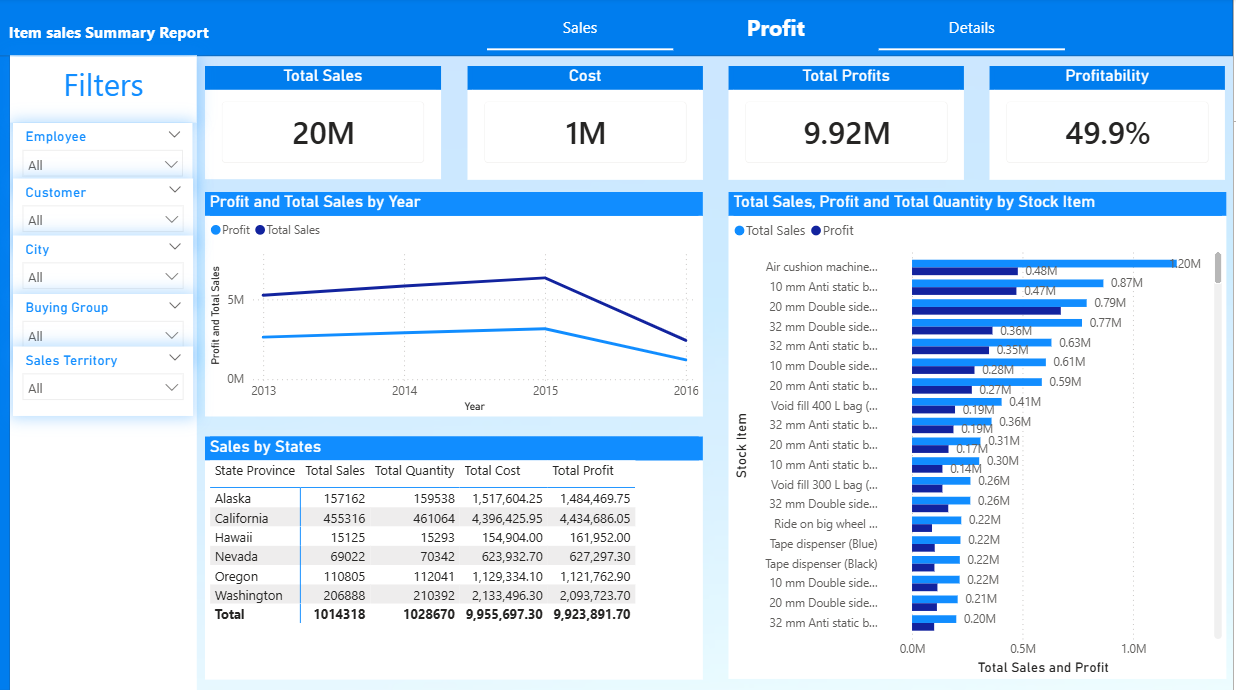

This screenshot's page, from the dashboard's own definition file:
{"tool":"powerbi","page":{"name":"Profit","canvas":[1280,720],"ordinal":1},"visuals":[{"type":"shape","box":[0,0,1280,61.3],"z":0},{"type":"shape","box":[0,61.3,12.6,658.5],"z":1000},{"type":"shape","box":[12.6,61.3,193.6,658.5],"z":2000},{"type":"shape","box":[12.6,61.3,193.6,658.5],"z":3000},{"type":"textbox","box":[6.8,20.4,217.9,40.9],"z":4000},{"type":"cardVisual","title":"Total Sales","fields":{"Data":["Sum(FactSale.Total Excluding Tax)"]},"box":[215.2,71.1,244.3,117.6],"z":5000},{"type":"cardVisual","title":"Cost","fields":{"Data":["Sum(FactSale.Quantity)"]},"box":[486.3,71.1,244.1,117.7],"z":6000},{"type":"cardVisual","title":"Total Profits","fields":{"Data":["Sum(FactSale.Profit)"]},"box":[757.2,71.1,244.1,117.7],"z":7000},{"type":"cardVisual","title":"Profitability","fields":{"Data":["FactSale.Profitablity"]},"box":[1028.1,71.1,244.1,117.7],"z":8000},{"type":"textbox","box":[12.6,62.2,193.6,68.1],"z":9000},{"type":"lineChart","fields":{"Category":["DimDate.Date.Variation.Date Hierarchy.Year","DimDate.Date.Variation.Date Hierarchy.Quarter","DimDate.Date.Variation.Date Hierarchy.Month","DimDate.Date.Variation.Date Hierarchy.Day"],"Y":["Sum(FactSale.Profit)","Sum(FactSale.Total Excluding Tax)"]},"box":[214.5,202.4,516,232.7],"z":10000},{"type":"clusteredBarChart","fields":{"Category":["DimStockItem.Stock Item"],"Y":["Sum(FactSale.Total Excluding Tax)","Sum(FactSale.Profit)"]},"box":[756.9,202.4,516,504.9],"z":11000},{"type":"pivotTable","title":"Sales by States","fields":{"Values":["Sum(FactSale.Total Dry Items)","Sum(FactSale.Quantity)","Sum(FactSale.Cost)","Sum(FactSale.Profit)"],"Rows":["DimCity.State Province"]},"box":[214.5,455.3,516,252],"z":12000},{"type":"slicer","fields":{"Values":["DimEmployee.Employee"]},"box":[15.6,130.1,186.3,71.8],"z":13000},{"type":"slicer","fields":{"Values":["DimCustomer.Customer"]},"box":[15.6,188.7,186.7,72],"z":14000},{"type":"slicer","fields":{"Values":["DimCity.City"]},"box":[15.6,247.1,186.7,72],"z":15000},{"type":"slicer","fields":{"Values":["DimCustomer.Buying Group"]},"box":[15.6,307.4,186.7,72],"z":16000},{"type":"slicer","fields":{"Values":["DimCity.Sales Territory"]},"box":[15.6,362.8,186.7,72],"z":17000},{"type":"pageNavigator","box":[506.7,6.8,600.1,49.6],"z":17001}]}

Visuals, with their boxes in screenshot pixels (x1, y1, x2, y2), scaled from the page's 1280x720 canvas onto the 1236x690 screenshot:
shape: {"x1": 0, "y1": 0, "x2": 1235, "y2": 59}
shape: {"x1": 0, "y1": 59, "x2": 12, "y2": 689}
shape: {"x1": 12, "y1": 59, "x2": 199, "y2": 689}
shape: {"x1": 12, "y1": 59, "x2": 199, "y2": 689}
textbox: {"x1": 7, "y1": 20, "x2": 217, "y2": 59}
"Total Sales" cardVisual: {"x1": 208, "y1": 68, "x2": 444, "y2": 181}
"Cost" cardVisual: {"x1": 470, "y1": 68, "x2": 705, "y2": 181}
"Total Profits" cardVisual: {"x1": 731, "y1": 68, "x2": 967, "y2": 181}
"Profitability" cardVisual: {"x1": 993, "y1": 68, "x2": 1228, "y2": 181}
textbox: {"x1": 12, "y1": 60, "x2": 199, "y2": 125}
lineChart - DimDate.Date.Variation.Date Hierarchy.Year x DimDate.Date.Variation.Date Hierarchy.Quarter: {"x1": 207, "y1": 194, "x2": 705, "y2": 417}
clusteredBarChart - DimStockItem.Stock Item x Sum(FactSale.Total Excluding Tax): {"x1": 731, "y1": 194, "x2": 1229, "y2": 678}
"Sales by States" pivotTable: {"x1": 207, "y1": 436, "x2": 705, "y2": 678}
slicer - DimEmployee.Employee: {"x1": 15, "y1": 125, "x2": 195, "y2": 193}
slicer - DimCustomer.Customer: {"x1": 15, "y1": 181, "x2": 195, "y2": 250}
slicer - DimCity.City: {"x1": 15, "y1": 237, "x2": 195, "y2": 306}
slicer - DimCustomer.Buying Group: {"x1": 15, "y1": 295, "x2": 195, "y2": 364}
slicer - DimCity.Sales Territory: {"x1": 15, "y1": 348, "x2": 195, "y2": 417}
pageNavigator: {"x1": 489, "y1": 7, "x2": 1069, "y2": 54}
